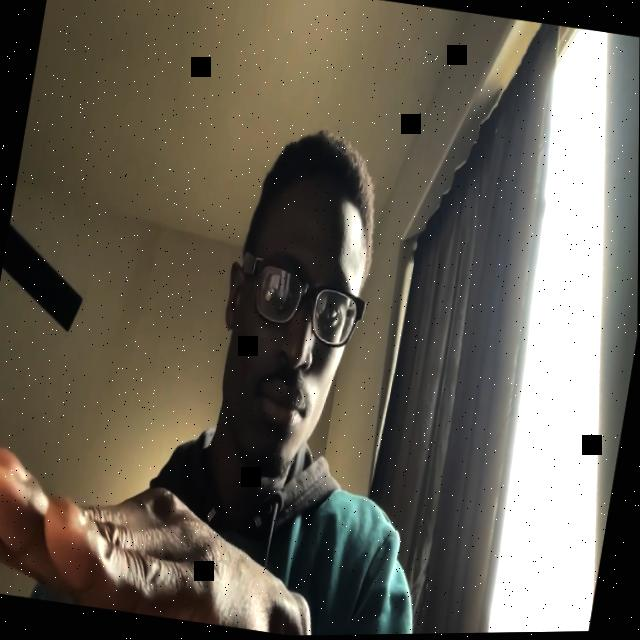Paper: (0, 437, 323, 640)
